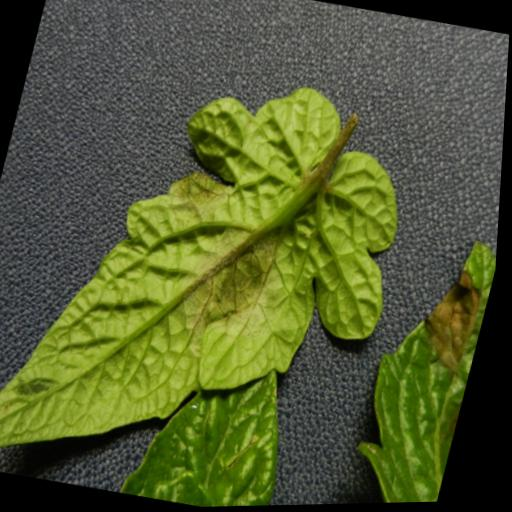Late Blight: (0, 33, 438, 512), (343, 225, 501, 506)
